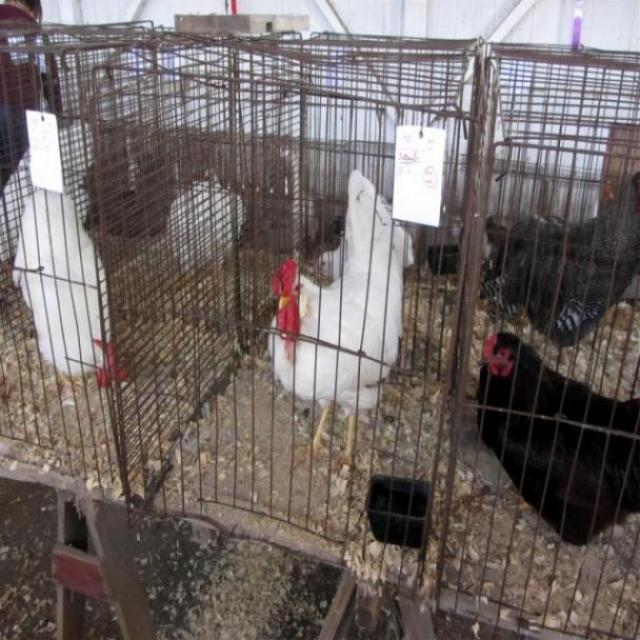Chicken: (269, 159, 414, 462), (474, 319, 640, 549), (475, 170, 636, 372), (11, 178, 134, 401), (164, 163, 248, 311)
